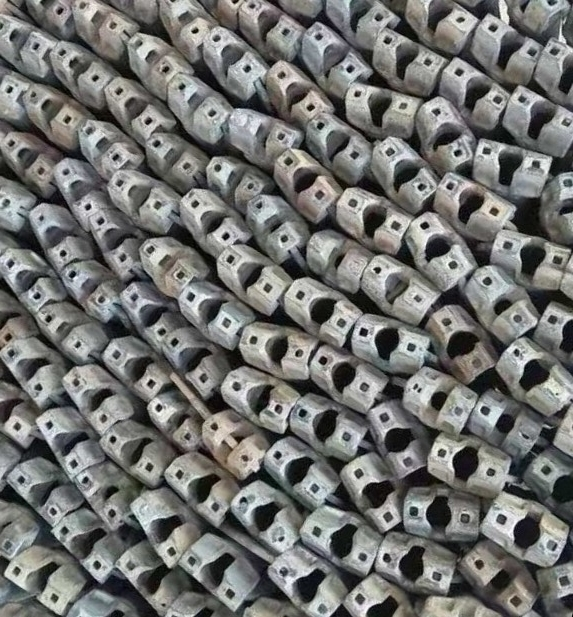NHsquare_steel: (303, 225, 368, 287)
THsquare_steel: (492, 335, 573, 416), (177, 536, 259, 611), (401, 212, 476, 292), (363, 135, 440, 210), (457, 543, 536, 616), (429, 170, 517, 235), (459, 265, 537, 338), (483, 500, 570, 565), (424, 301, 495, 379), (209, 243, 286, 314), (258, 436, 335, 507), (396, 368, 476, 436), (160, 454, 237, 524), (294, 509, 378, 573), (270, 145, 343, 217), (500, 82, 573, 154), (279, 278, 357, 345), (286, 393, 363, 459), (487, 225, 565, 290), (333, 187, 412, 251), (50, 512, 120, 584), (298, 19, 372, 87), (373, 534, 452, 597), (228, 482, 300, 551), (221, 364, 294, 432), (358, 257, 438, 319), (427, 434, 508, 495), (364, 31, 447, 90), (269, 551, 342, 617), (362, 403, 427, 477), (438, 56, 509, 123), (300, 114, 373, 179), (127, 489, 190, 564), (111, 545, 178, 615), (342, 455, 406, 528), (413, 98, 478, 169), (5, 552, 79, 614), (471, 13, 544, 75), (394, 489, 481, 541), (103, 167, 178, 227), (470, 139, 550, 195), (97, 335, 168, 398), (239, 323, 316, 381), (33, 405, 99, 472), (179, 186, 245, 252), (200, 28, 267, 93), (349, 316, 428, 371), (101, 422, 171, 484), (60, 363, 124, 430), (178, 279, 245, 343), (241, 192, 307, 256), (236, 1, 308, 59), (259, 60, 332, 117), (339, 81, 419, 133), (5, 459, 71, 522), (40, 42, 114, 98), (163, 330, 226, 395), (160, 74, 230, 132), (519, 450, 573, 523), (100, 76, 166, 135), (136, 232, 203, 290), (225, 106, 301, 157), (68, 468, 134, 526), (26, 201, 84, 265), (31, 304, 101, 357), (116, 281, 178, 339), (1, 246, 58, 309), (24, 87, 87, 143), (2, 338, 57, 402), (1, 132, 59, 192), (51, 158, 106, 221), (141, 131, 207, 182), (63, 259, 121, 316), (123, 31, 184, 84), (325, 1, 401, 43), (89, 210, 141, 271), (69, 1, 132, 51), (406, 1, 478, 44), (147, 393, 202, 448), (78, 118, 135, 171), (199, 155, 266, 200), (159, 1, 216, 51), (1, 18, 48, 78), (343, 578, 413, 617), (1, 381, 36, 450), (543, 170, 573, 249), (533, 39, 573, 89)
THsquare_steel_blocked: (197, 411, 270, 480)
